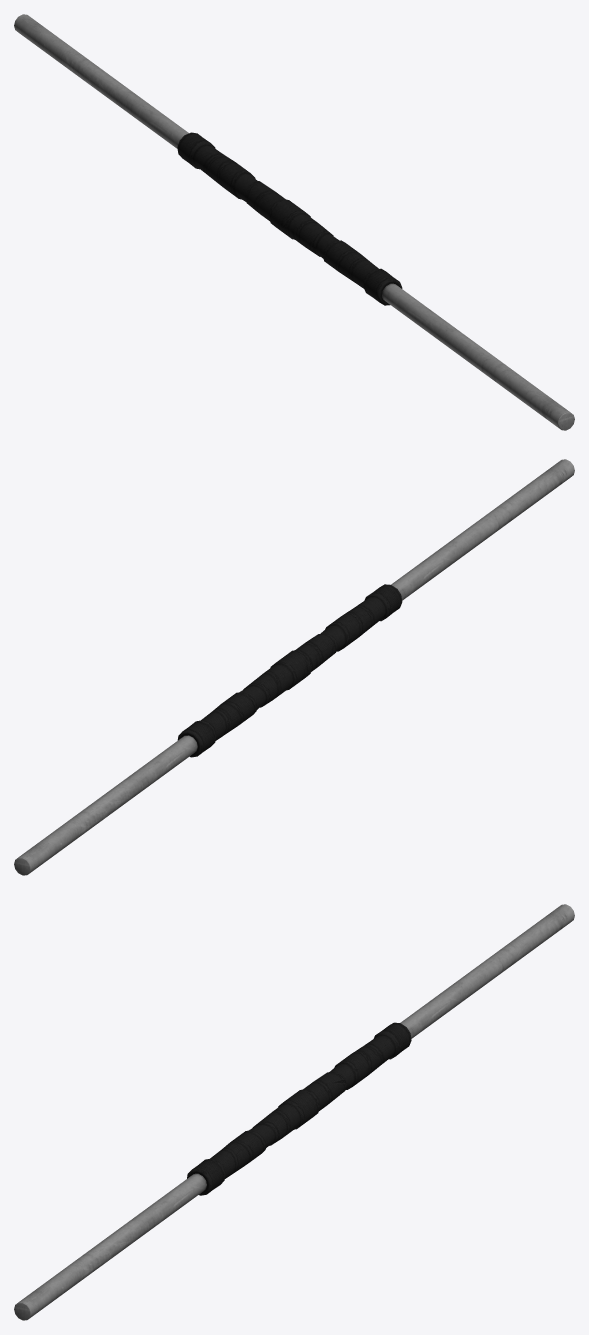
Rendered from NinjaStaff.fbx.
3 views of the same model, one above another, from view 1: azimuth 30°, elevation 25°; view 2: azimuth 150°, elevation 25°; view 3: azimuth 330°, elevation 25° (orthographic).
Visible parts, largest first — view 1: bo_mesh; view 2: bo_mesh; view 3: bo_mesh.
Boxes of the visible parts, x1,y1,x2,y2 form: bo_mesh: [14, 14, 574, 430]; bo_mesh: [14, 459, 574, 875]; bo_mesh: [14, 904, 574, 1320].
Bounding box in the file's own units: 5.13 × 5.13 × 183.
